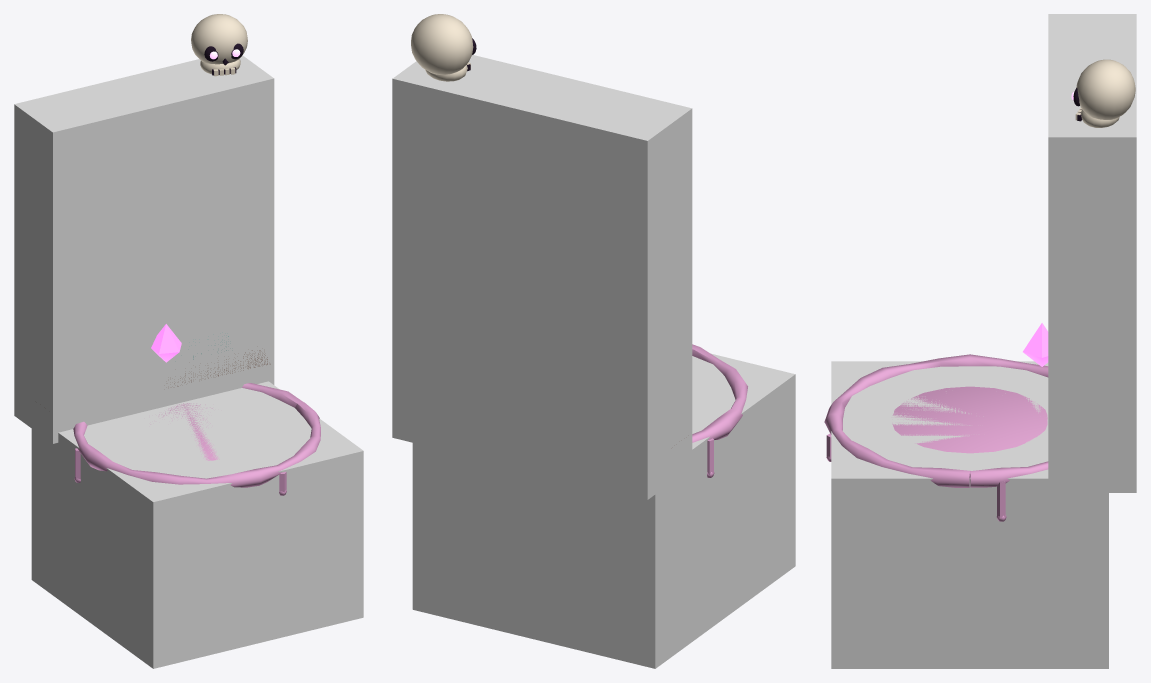
File: Witch_Chair_B.fbx
The picture shows the model from 3 angles, left to right: view 1: azimuth 30°, elevation 25°; view 2: azimuth 150°, elevation 25°; view 3: azimuth 270°, elevation 25°; orthographic projection. The views are drawn at different scales.
Parts seen in each view (by area): view 1: COL_Witch_Chair_B_1, COL_Witch_Chair_B_0, Witch_Chair_B_Decoration, Witch_Chair_B_Seat; view 2: COL_Witch_Chair_B_1, COL_Witch_Chair_B_0, Witch_Chair_B_Decoration; view 3: COL_Witch_Chair_B_0, COL_Witch_Chair_B_1, Witch_Chair_B_Decoration, Witch_Chair_B_Seat.
Boxes of the visible parts, x1,y1,x2,y2 form: COL_Witch_Chair_B_1: (14,55,274,443); COL_Witch_Chair_B_0: (31,381,363,668); Witch_Chair_B_Decoration: (73,14,320,495); Witch_Chair_B_Seat: (150,403,219,460); COL_Witch_Chair_B_1: (392,55,692,499); COL_Witch_Chair_B_0: (412,353,795,668); Witch_Chair_B_Decoration: (411,14,747,477); COL_Witch_Chair_B_0: (831,361,1108,668); COL_Witch_Chair_B_1: (1048,14,1136,492); Witch_Chair_B_Decoration: (824,59,1135,521); Witch_Chair_B_Seat: (892,386,1047,453).
Size of the model in its own units: 0.7097 by 1.64 by 0.7586.
